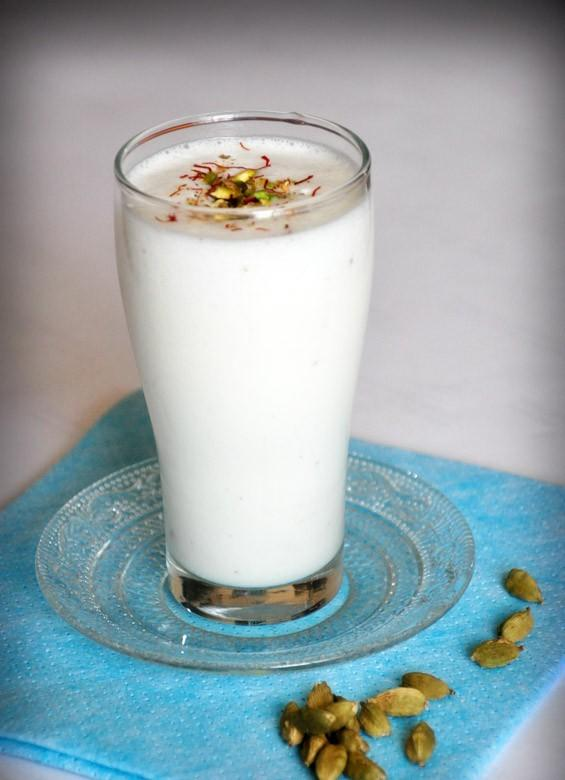Lassi: (118, 136, 373, 587)
